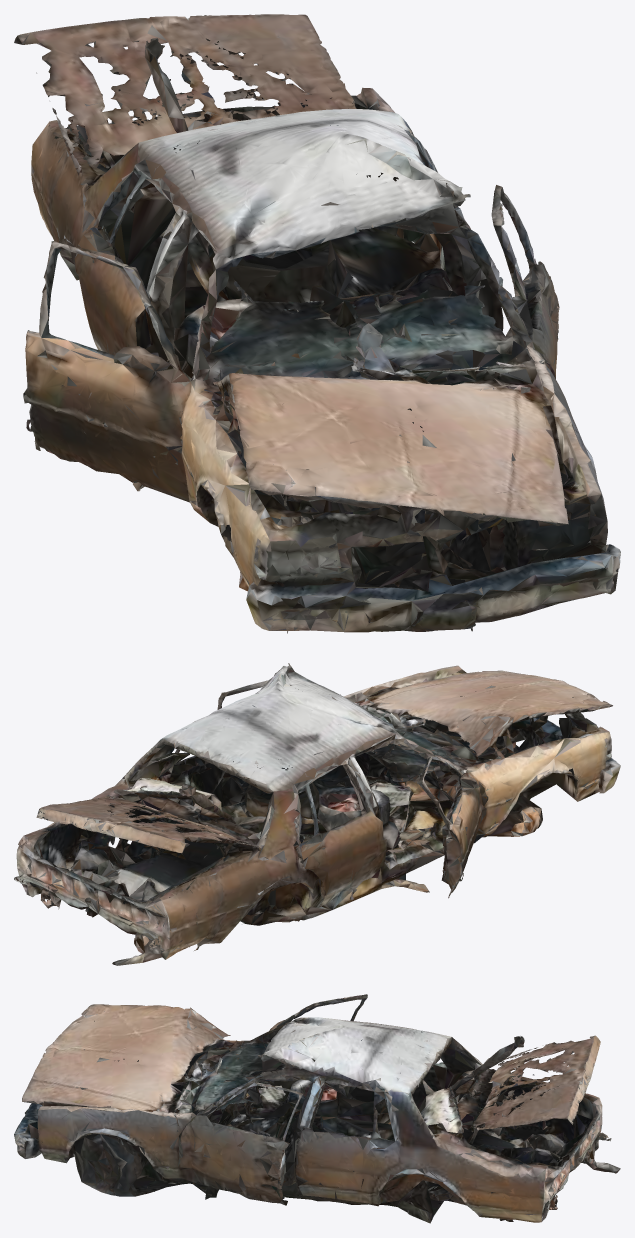
Rendered from car_scan_03.glb.
The picture shows the model from 3 angles, top to bottom: view 1: azimuth 30°, elevation 25°; view 2: azimuth 150°, elevation 25°; view 3: azimuth 270°, elevation 25°; orthographic projection. The views are drawn at different scales.
Visible parts, largest first — view 1: Object_2; view 2: Object_2; view 3: Object_2.
Part boxes in pixels (box(x1,y1,x2,y2)): Object_2: box(14, 14, 620, 633); Object_2: box(14, 663, 620, 965); Object_2: box(14, 994, 620, 1223).
Size of the model in its own units: 2.66 by 1.35 by 4.6.
1 material, 1 textured.
